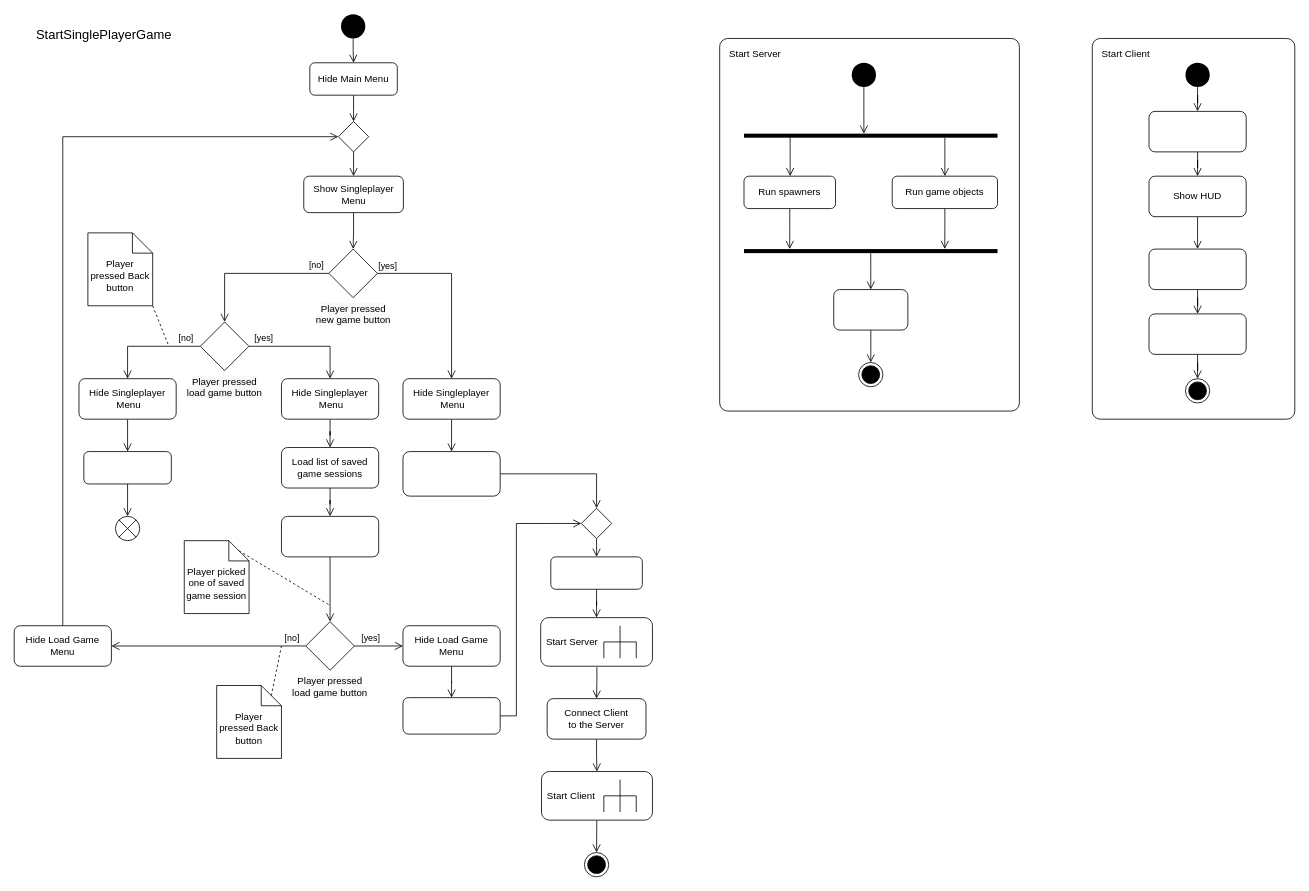
Some shapes in this 1309 by 891 pixel diagram are drawn without their labels. The shapes that lost their labels are listed below. From the top down, each one's centre as x and y in pixels, then its label:
At point 1197,131: "Change cursor to GameCursor".
At point 1197,269: "Show game scene".
At point 870,309: "Run Clinet update loop".
At point 1197,333: "Enable Avatar Controller".
At point 127,467: "Show Main Menu".
At point 451,473: "Generate new game session source".
At point 330,536: "Show Load Game Menu".
At point 596,572: "Create Server".
At point 451,715: "Load saved game session source".
